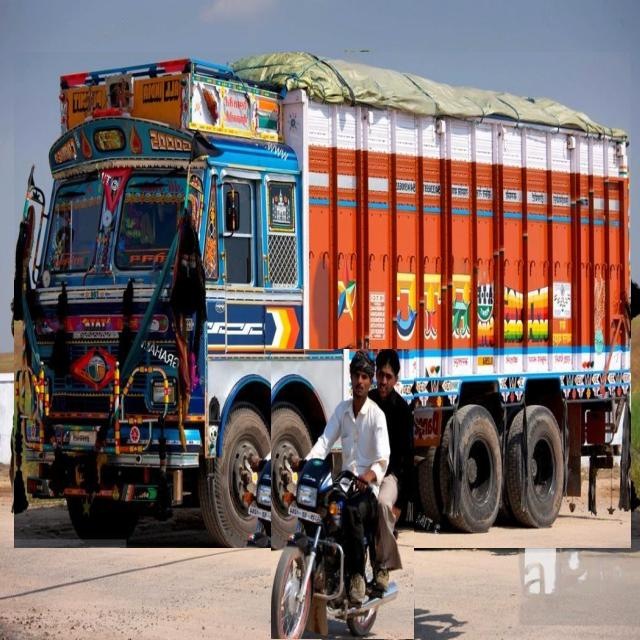motorcycle: (271, 349, 414, 639)
truck: (14, 52, 631, 548)
